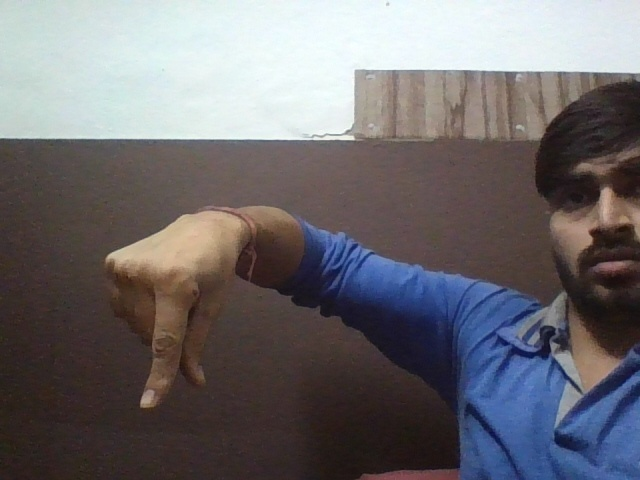Q: (79, 217, 249, 443)
